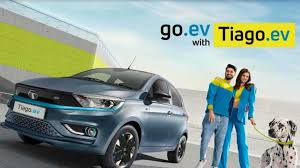Tiago: (8, 63, 190, 167)
